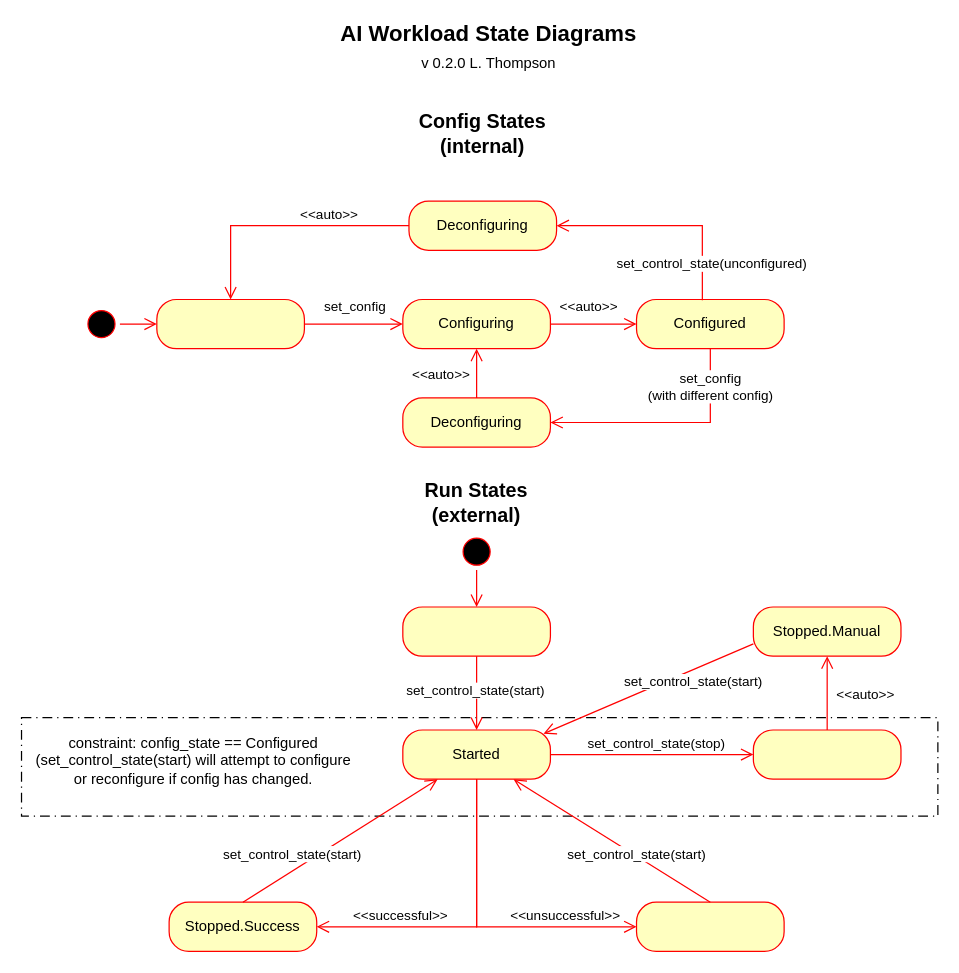
This 959x973 diagram has some shape labels left out. Each missing label, with the centre of its shape:
"Stopped.Failure" goes at point 709,926.
"Stopping" goes at point 826,754.
"Unconfigured" goes at point 230,323.
"Unrun" goes at point 476,631.
